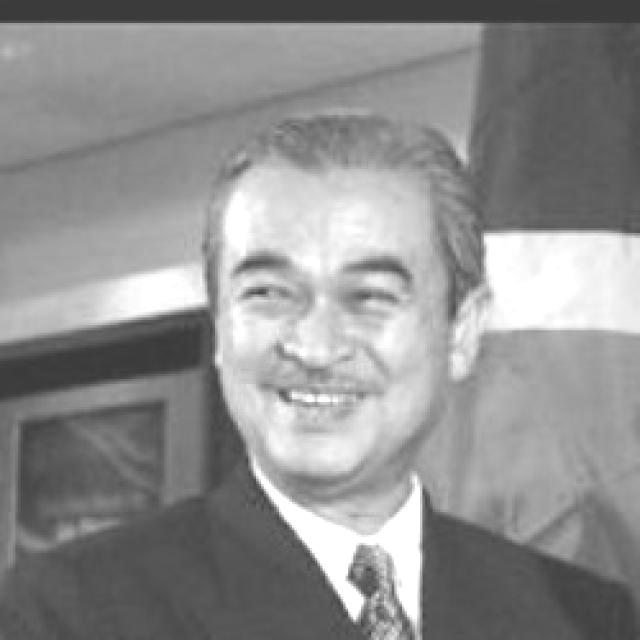real: (211, 94, 467, 510), (232, 273, 434, 316)
